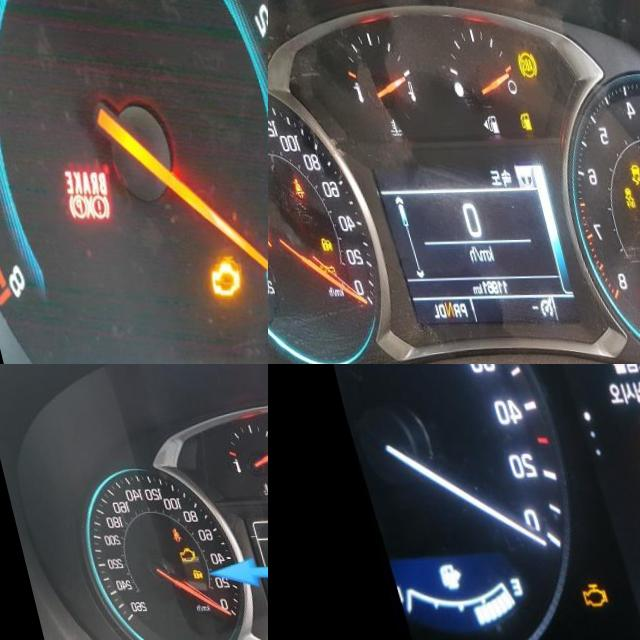Low fuel level: (507, 113, 522, 133)
